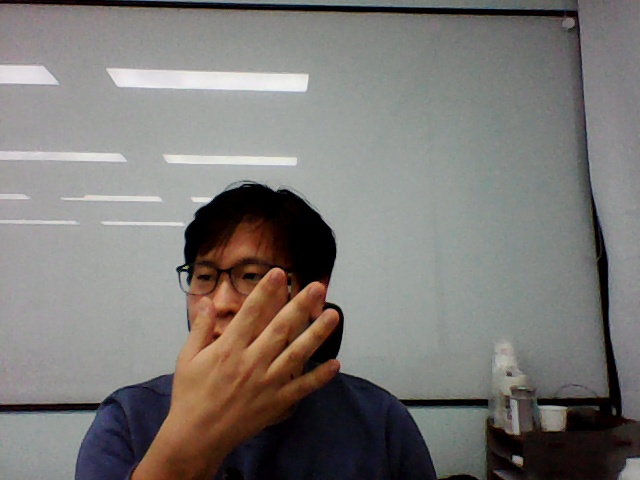five: (172, 262, 345, 446)
